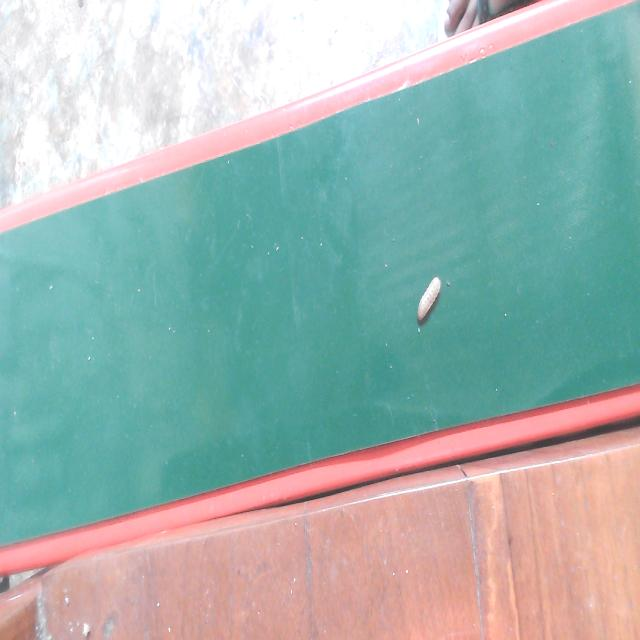Maggot: (416, 277, 443, 329)
